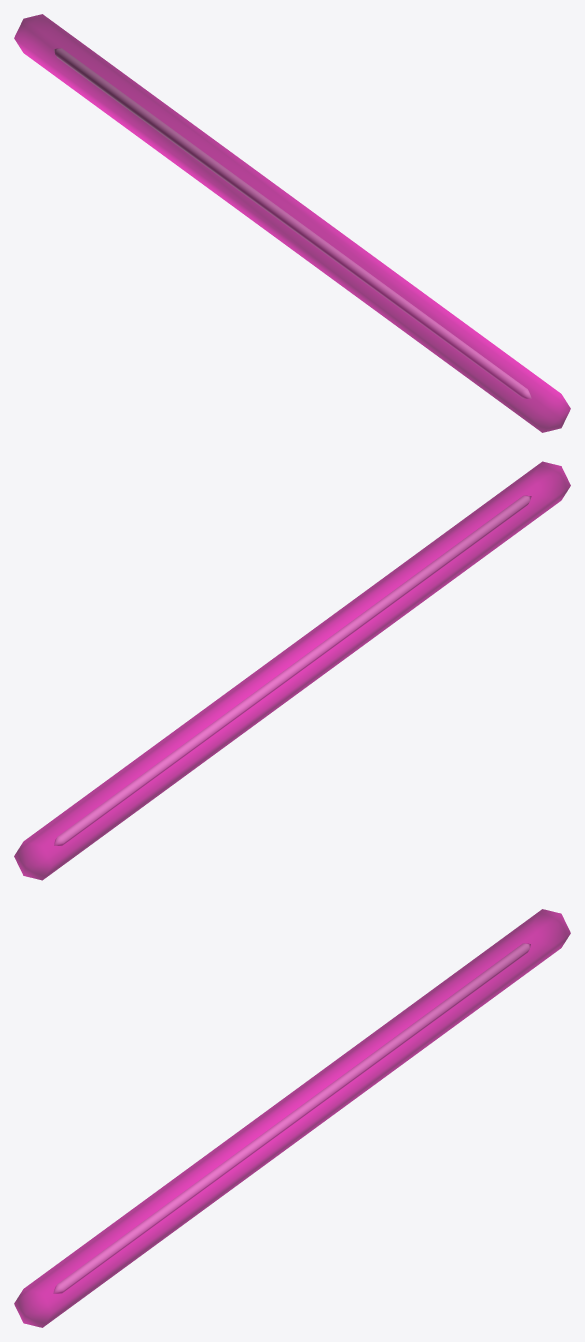
File: hot_pink_laser_model.fbx
The picture shows the model from 3 angles, top to bottom: view 1: azimuth 30°, elevation 25°; view 2: azimuth 150°, elevation 25°; view 3: azimuth 330°, elevation 25°; orthographic projection.
Visible parts, largest first — view 1: glow, bolt; view 2: glow, bolt; view 3: glow, bolt.
Boxes of the visible parts, x1,y1,x2,y2 form: glow: (14,14,570,432); bolt: (54,48,531,398); glow: (14,461,570,880); bolt: (54,495,531,845); glow: (14,909,570,1327); bolt: (53,943,530,1293).
Size of the model in its own units: 3.15 by 2.73 by 76.43.
